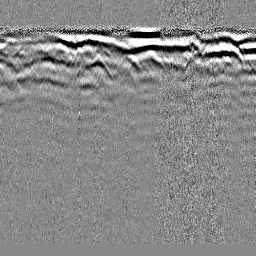cavity: (115, 53, 142, 74)
